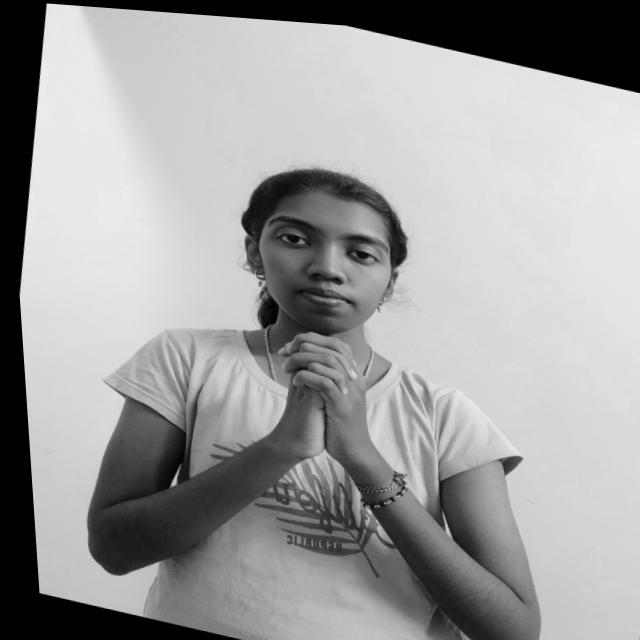Sorry: (231, 312, 409, 484)
